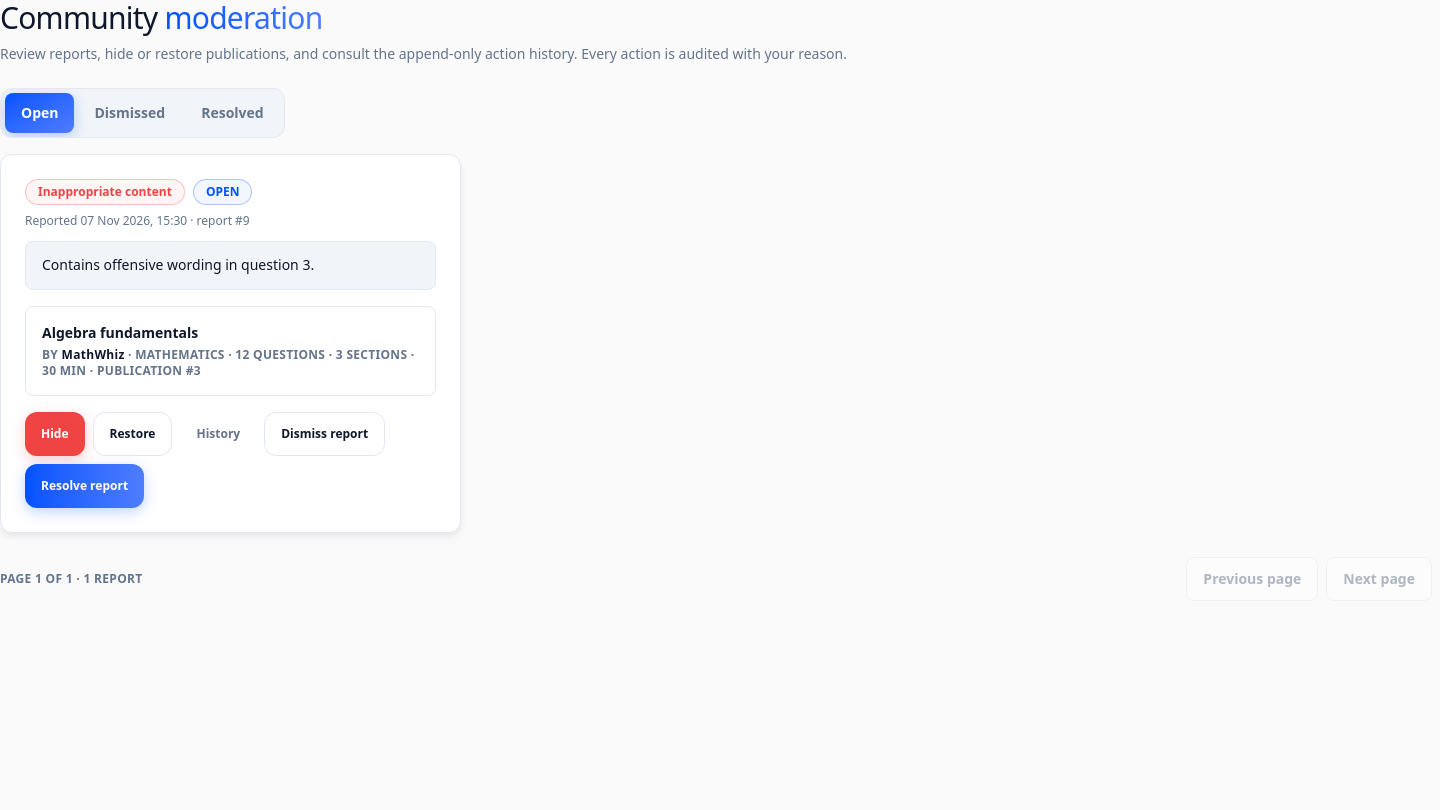
Test: /community/moderation › blocks hide until a reason is entered, then submits it
The image size is (1440, 810).
Click the button "Hide" at (55, 434), box [25,412,84,456]
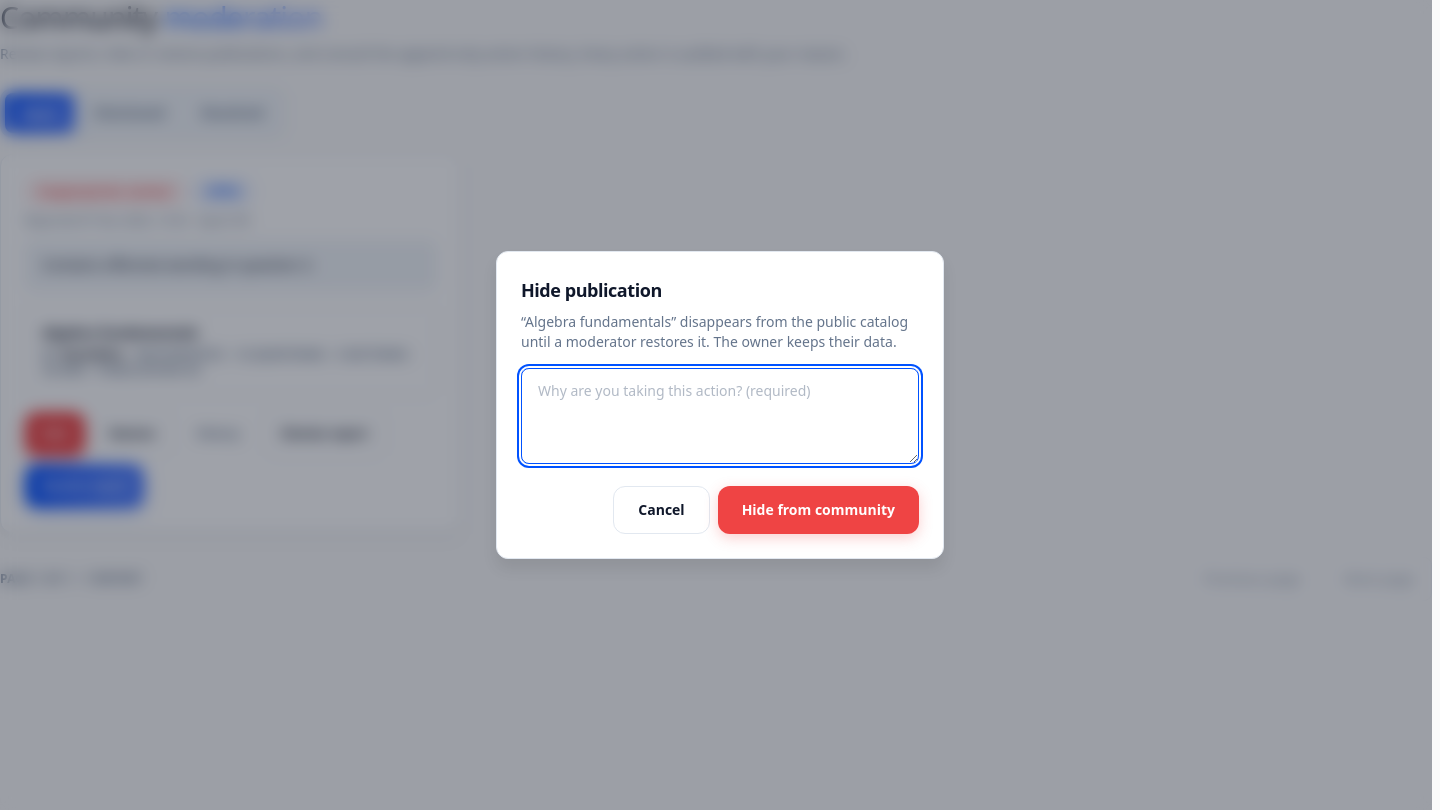
Expected: the heading "Hide publication" is shown, [521,278,662,302]
// Mandatory reason: empty submit is blocked by the zod schema.
Click the button "Hide from community" at (818, 510), box [718,486,919,534]
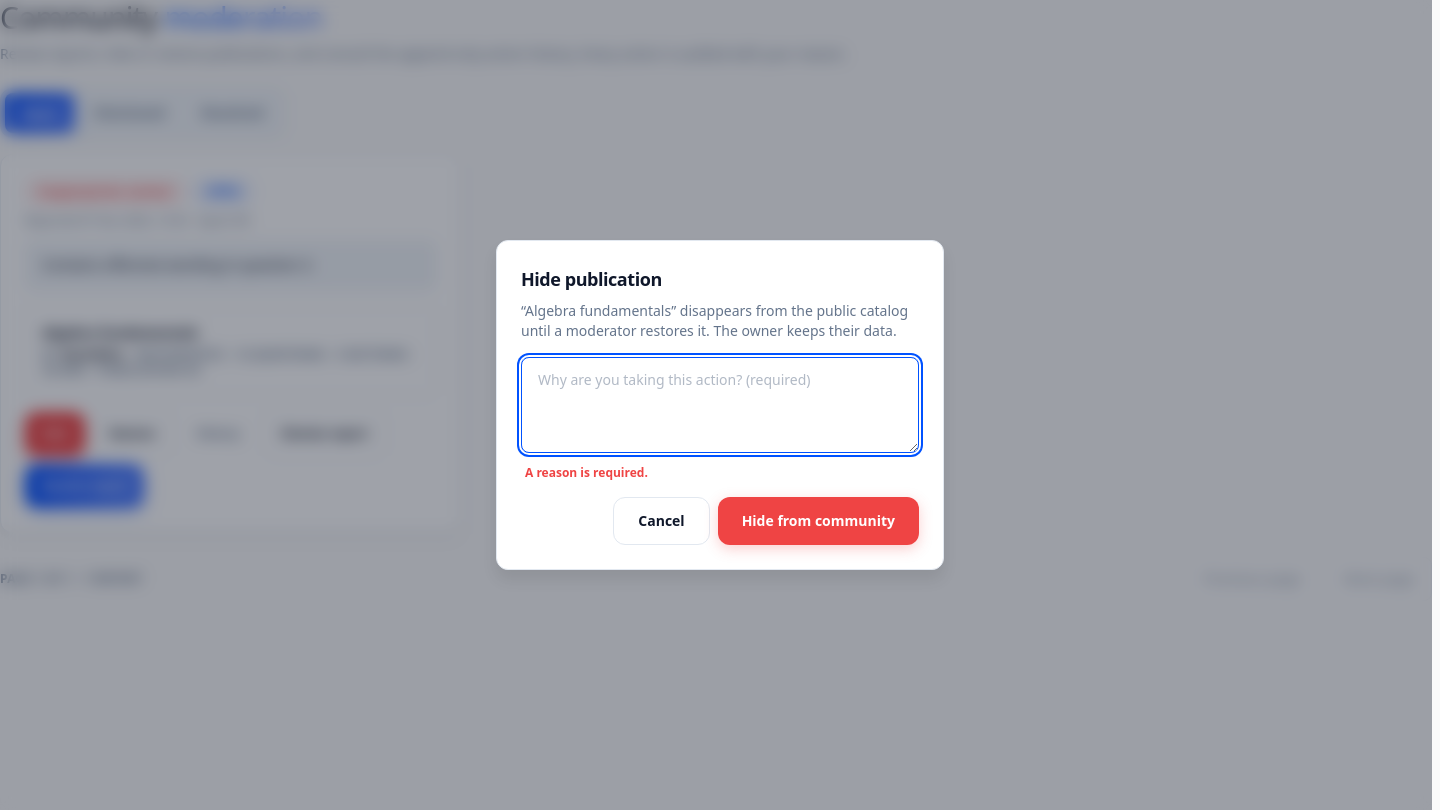
Expected: the text "A reason is required." is shown, [525,464,648,481]
Type "Confirmed offensive content" into the text box named "reason (required)" at (720, 405), box [521,357,919,453]
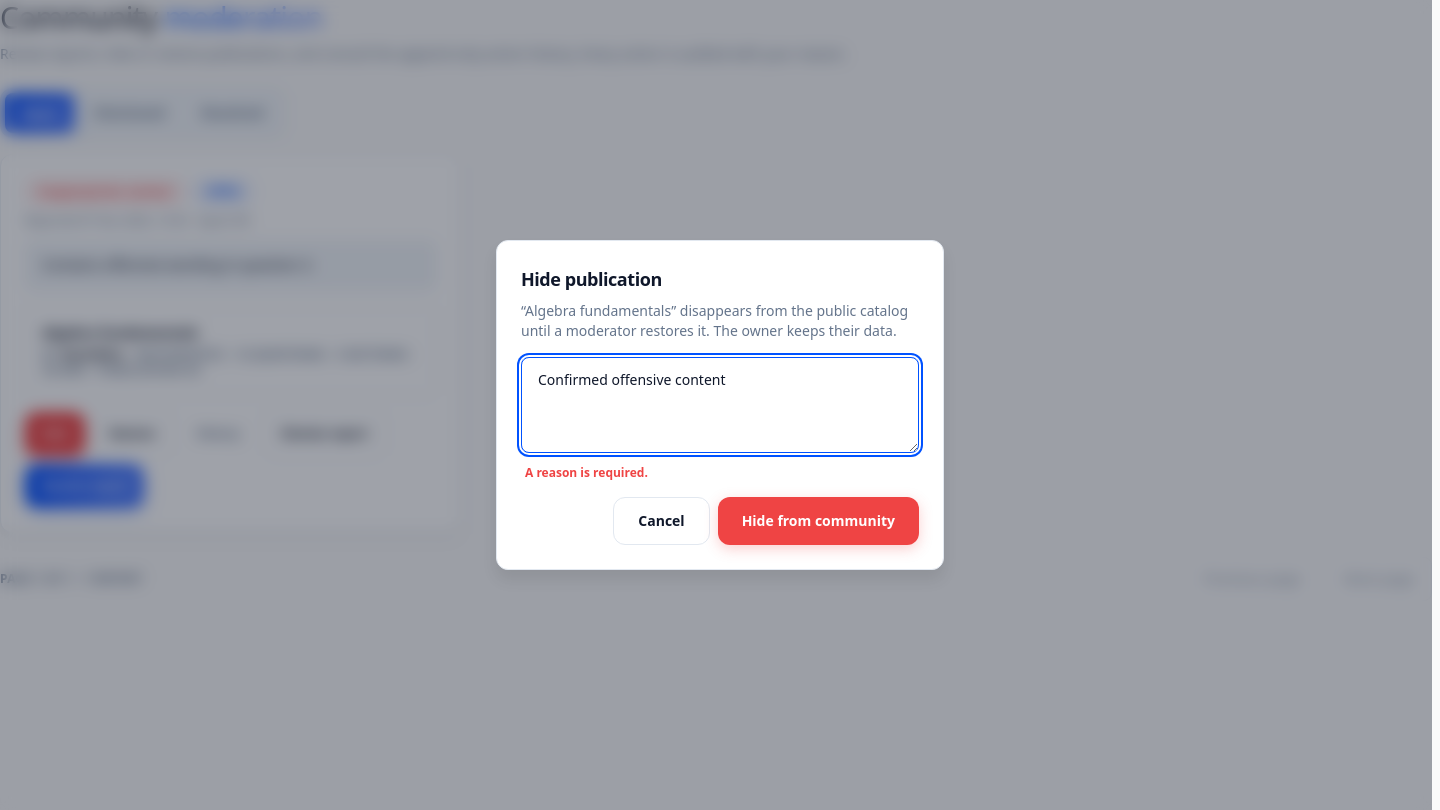
Click the button "Hide from community" at (818, 521), box [718,497,919,545]
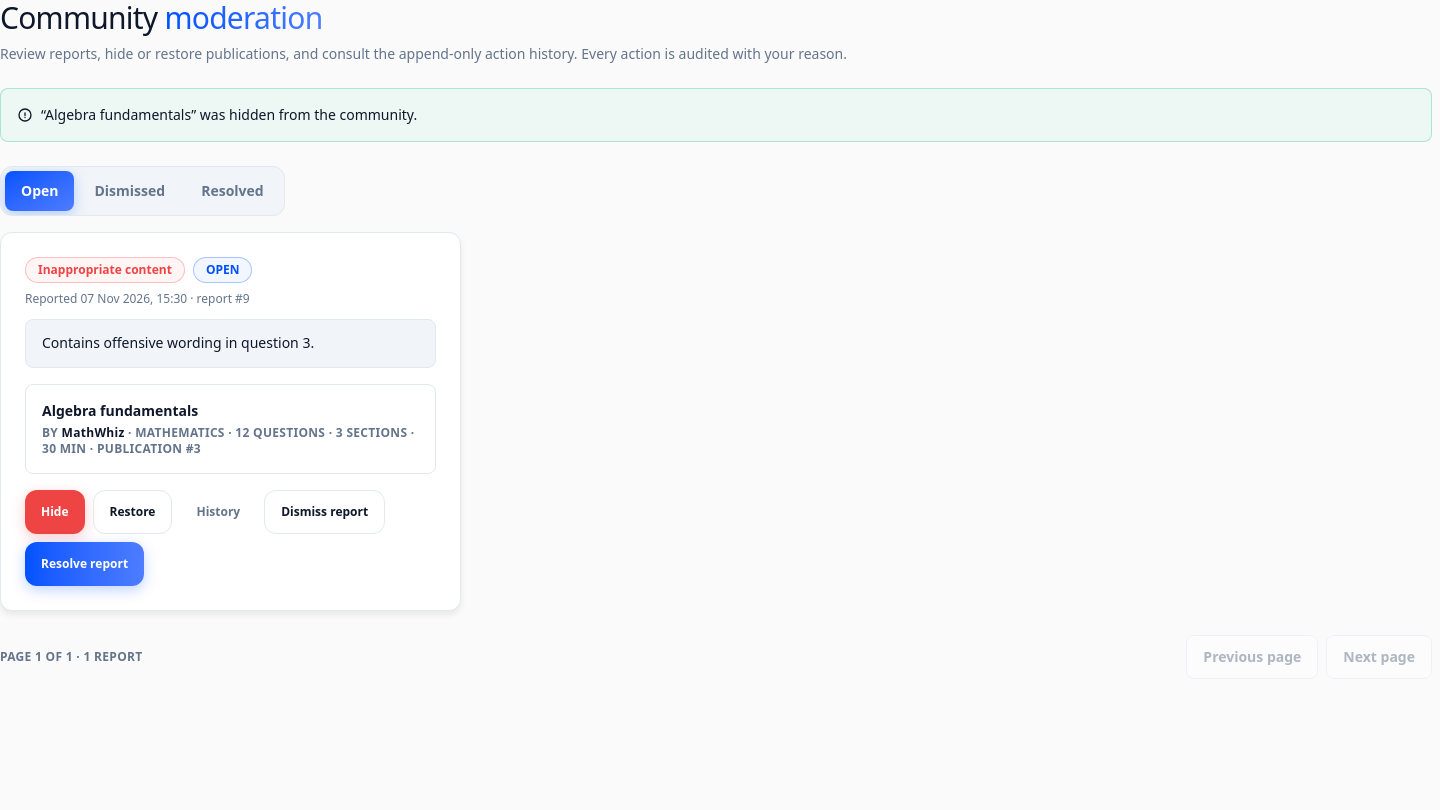
Expected: the text "“Algebra fundamentals” was hidden from the community." is shown, [41,105,417,125]
